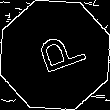P_W: (25, 29, 85, 81)
